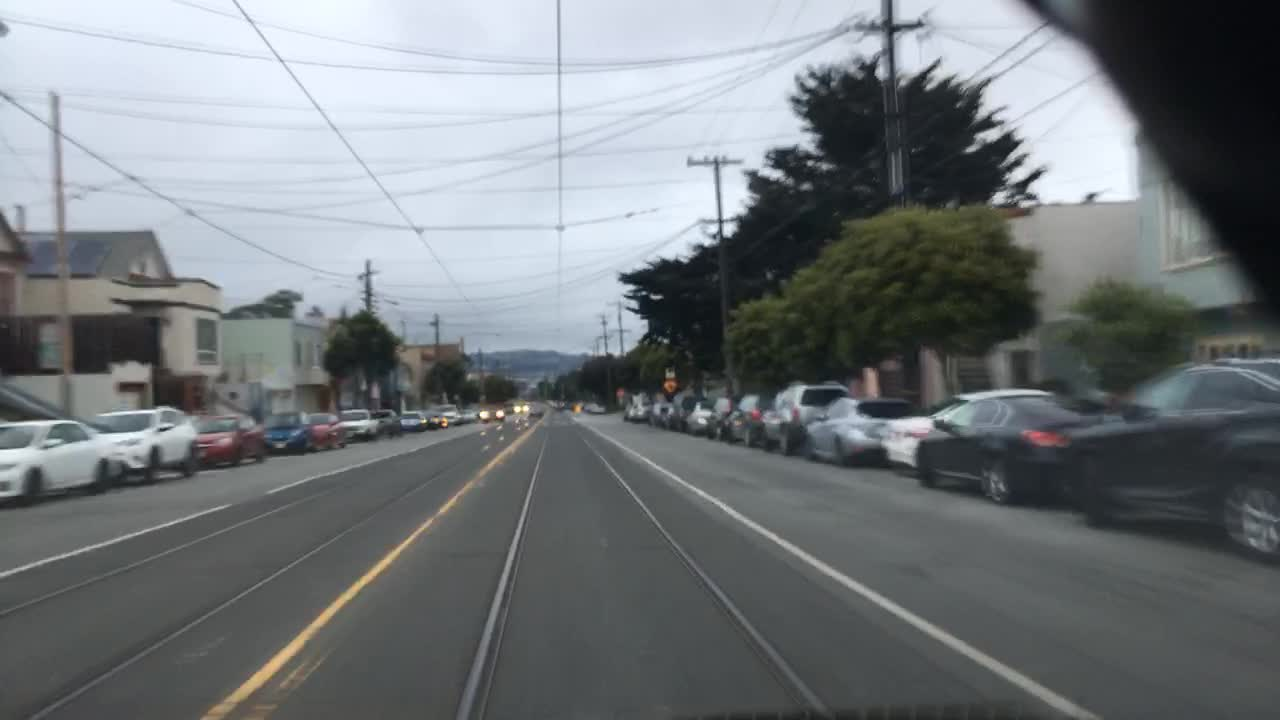car: (1055, 352, 1278, 562), (912, 388, 1108, 505), (0, 416, 110, 505), (91, 406, 197, 482), (805, 397, 923, 463), (758, 380, 853, 454), (193, 411, 265, 467), (723, 389, 777, 446), (259, 414, 308, 456), (299, 413, 346, 452), (336, 408, 380, 442), (705, 396, 736, 437), (684, 401, 715, 434), (666, 396, 694, 428), (372, 408, 404, 435), (649, 396, 675, 428), (399, 408, 429, 432), (634, 389, 653, 424), (436, 404, 462, 424), (479, 405, 505, 421), (427, 413, 450, 429), (580, 399, 604, 412), (625, 397, 637, 422), (462, 407, 477, 421), (558, 399, 577, 409), (512, 402, 529, 413)
traffic sign: (664, 379, 677, 392), (666, 366, 676, 377)
